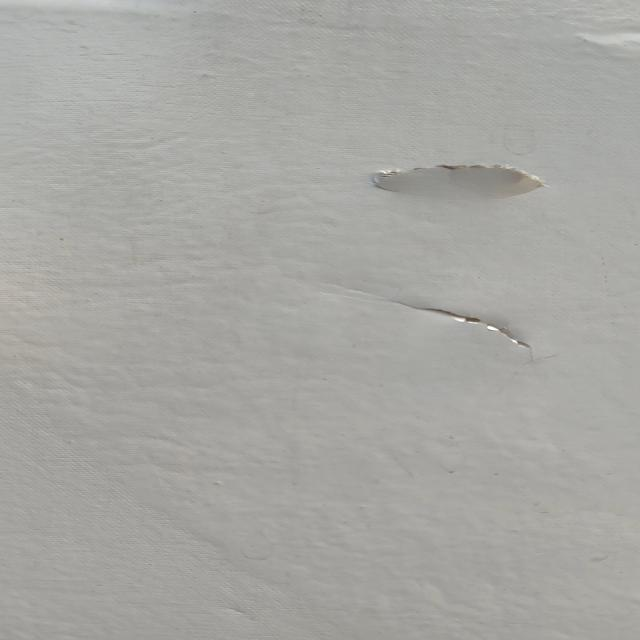Scratches: (335, 144, 581, 217), (374, 290, 570, 357)
